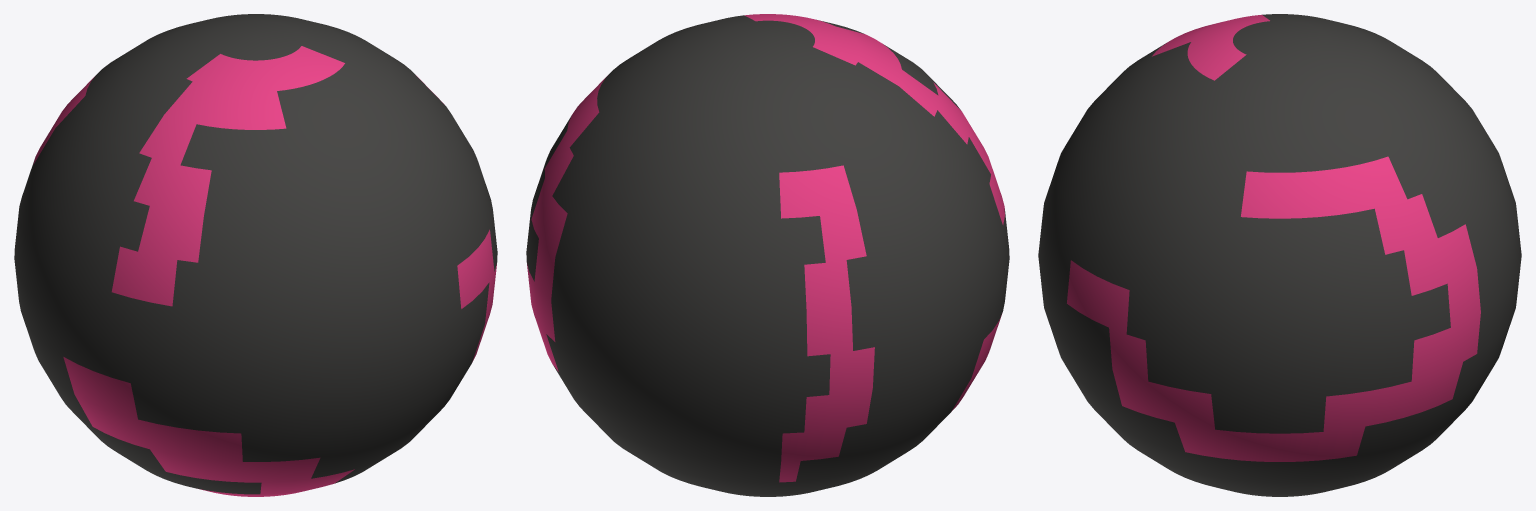
The model's file is bowling_ball.fbx.
3 views of the same model, side by side, from view 1: azimuth 30°, elevation 25°; view 2: azimuth 150°, elevation 25°; view 3: azimuth 270°, elevation 25° (orthographic).
Parts seen in each view (by area): view 1: Sphere; view 2: Sphere; view 3: Sphere.
Boxes of the visible parts, <box> form: Sphere: <box>14,14,497,496</box>; Sphere: <box>526,14,1009,496</box>; Sphere: <box>1038,14,1521,496</box>.
Size of the model in its own units: 2 by 2 by 2.
